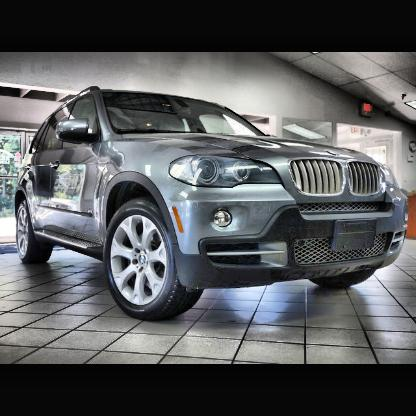BMW X5 SUV 2007: (9, 81, 416, 329)
